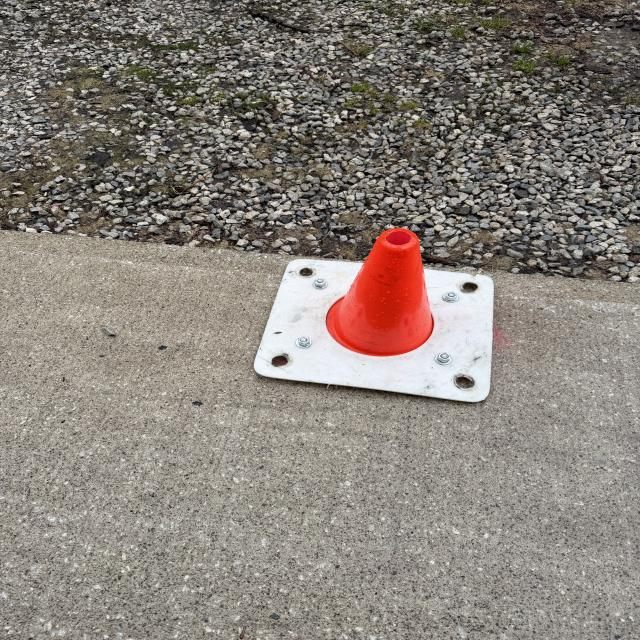Traffic Cone: (251, 229, 506, 404)
